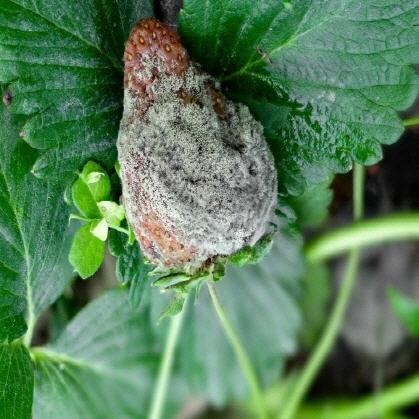Gray Mold: (114, 16, 279, 274)
